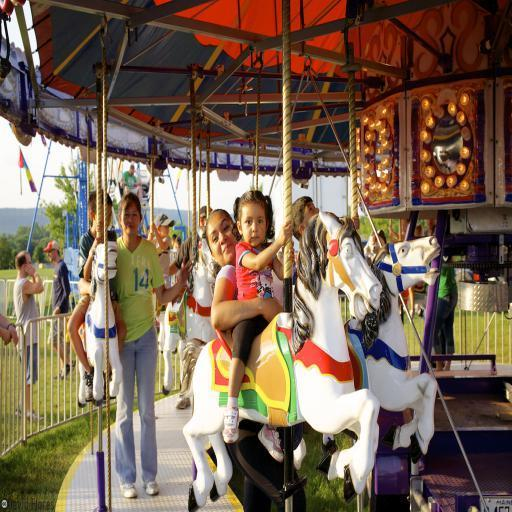horse: (178, 208, 382, 510), (290, 232, 440, 466), (162, 223, 218, 395), (78, 240, 118, 408)
